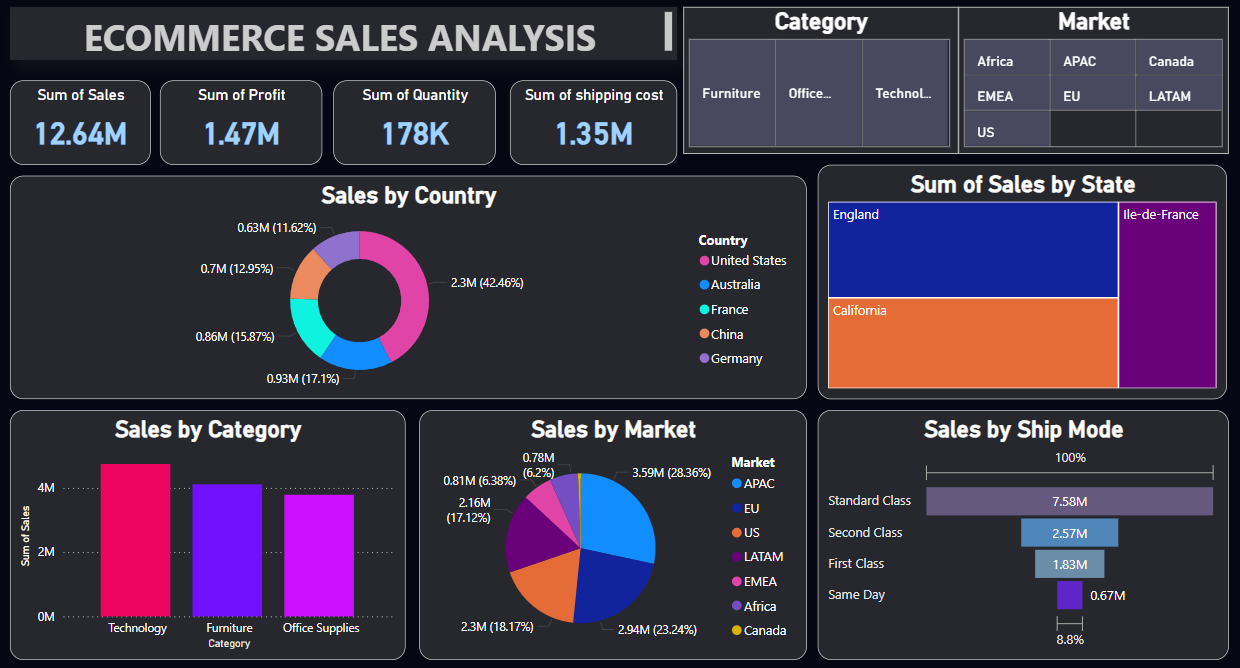

Layout of this report page (visuals, bound fields, positions):
{"tool":"powerbi","page":{"name":"Page 1","canvas":[1288,700],"ordinal":0},"visuals":[{"type":"pieChart","title":"Sales by Market","fields":{"Category":["Orders.Market"],"Y":["Sum(Orders.Sales)"]},"box":[435.9,429.4,401.9,259.3],"z":0},{"type":"columnChart","title":" Sales by Category","fields":{"Category":["Orders.Category"],"Y":["Sum(Orders.Sales)"]},"box":[11.3,429.4,410,259.3],"z":1000},{"type":"funnel","title":"Sales by Ship Mode","fields":{"Category":["Orders.Ship Mode"],"Y":["Sum(Orders.Sales)"]},"box":[849.1,429.4,426.2,259.3],"z":2000},{"type":"treemap","fields":{"Group":["Orders.State"],"Values":["Sum(Orders.Sales)"]},"box":[849.1,175,424.5,243.1],"z":3000},{"type":"donutChart","title":" Sales by Country","fields":{"Category":["Orders.Country"],"Y":["Sum(Orders.Sales)"]},"box":[11.3,186.3,826.4,231.7],"z":4000},{"type":"card","title":"Sum of Sales","fields":{"Values":["Sum(Orders.Sales)"]},"box":[11.3,87.5,145.8,87.5],"z":5000},{"type":"card","title":"Sum of Profit","fields":{"Values":["Sum(Orders.Profit)"]},"box":[166.9,87.5,168.5,87.5],"z":6000},{"type":"card","title":"Sum of Quantity","fields":{"Values":["Sum(Orders.Quantity)"]},"box":[346.8,87.5,168.5,87.5],"z":7000},{"type":"card","title":"Sum of shipping cost","fields":{"Values":["Sum(Orders.Shipping Cost)"]},"box":[529.9,87.5,173.4,87.5],"z":8000},{"type":"textbox","box":[11.3,11.3,691.9,55.1],"z":9000},{"type":"advancedSlicerVisual","fields":{"Values":["Orders.Category"]},"box":[709.7,11.3,285.2,152.3],"z":10000},{"type":"advancedSlicerVisual","fields":{"Values":["Orders.Market"]},"box":[994.9,11.3,280.3,152.3],"z":11000}]}

Visuals, with their boxes in screenshot pixels (x1, y1, x2, y2), scaled from the page's 1288x700 canvas onto the 1240x668 screenshot:
"Sales by Market" pieChart: bbox=[420, 410, 807, 657]
" Sales by Category" columnChart: bbox=[11, 410, 406, 657]
"Sales by Ship Mode" funnel: bbox=[817, 410, 1228, 657]
treemap - Orders.State x Sum(Orders.Sales): bbox=[817, 167, 1226, 399]
" Sales by Country" donutChart: bbox=[11, 178, 806, 399]
"Sum of Sales" card: bbox=[11, 84, 151, 167]
"Sum of Profit" card: bbox=[161, 84, 323, 167]
"Sum of Quantity" card: bbox=[334, 84, 496, 167]
"Sum of shipping cost" card: bbox=[510, 84, 677, 167]
textbox: bbox=[11, 11, 677, 63]
advancedSlicerVisual - Orders.Category: bbox=[683, 11, 958, 156]
advancedSlicerVisual - Orders.Market: bbox=[958, 11, 1228, 156]
